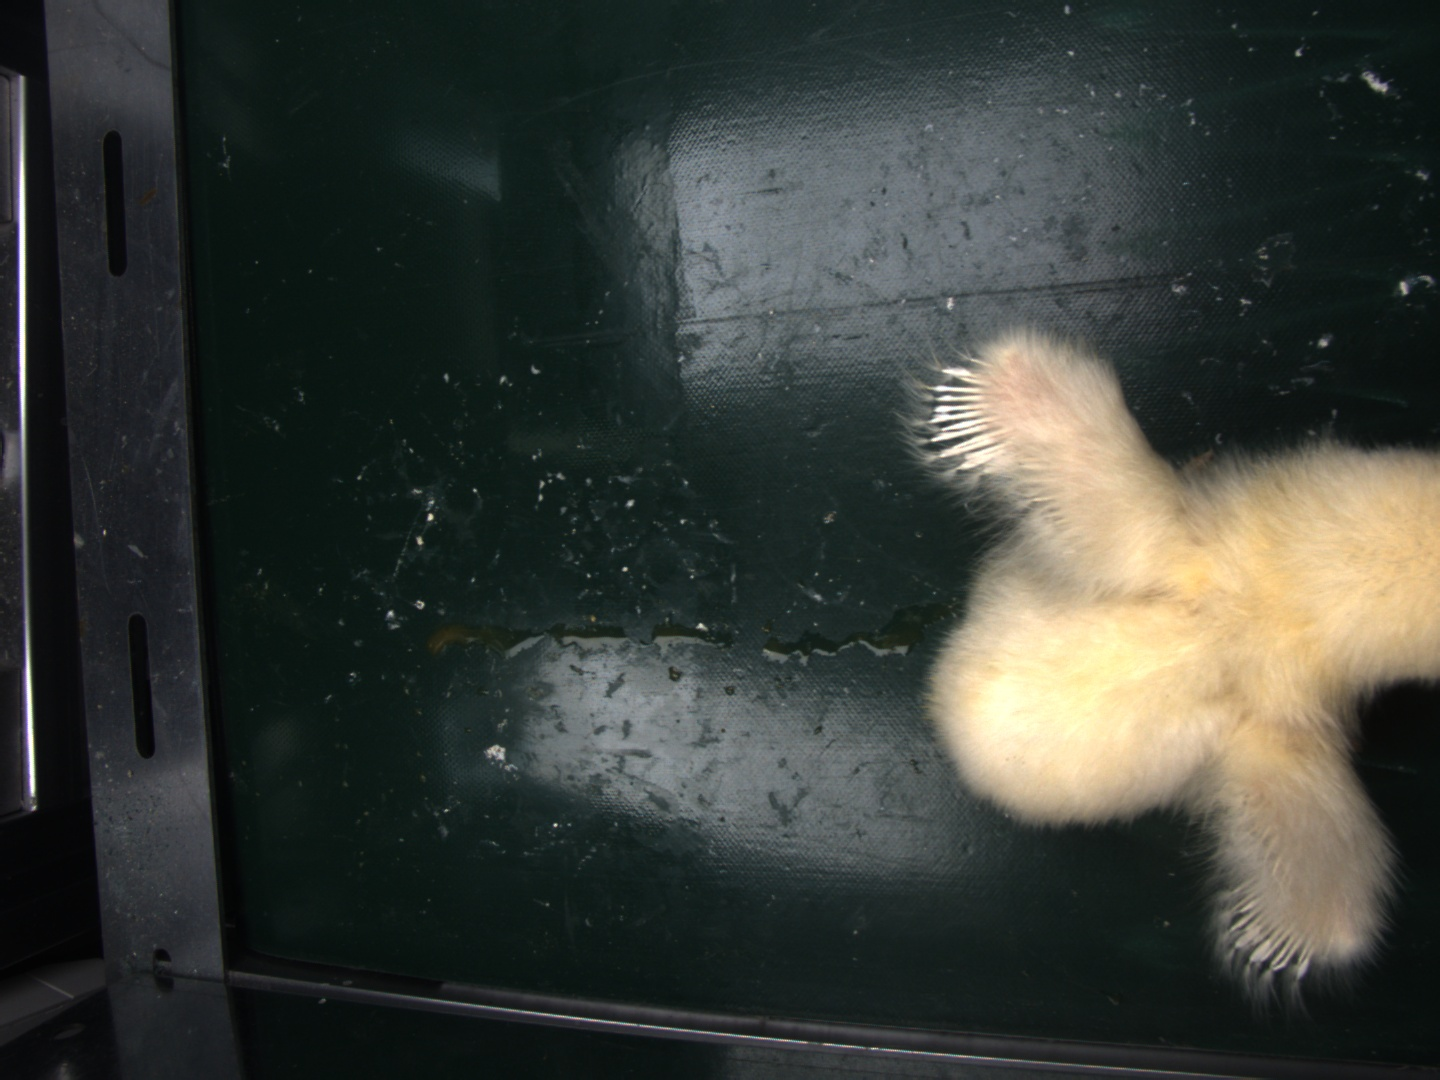male: (1223, 884, 1314, 980), (927, 364, 1005, 474)
